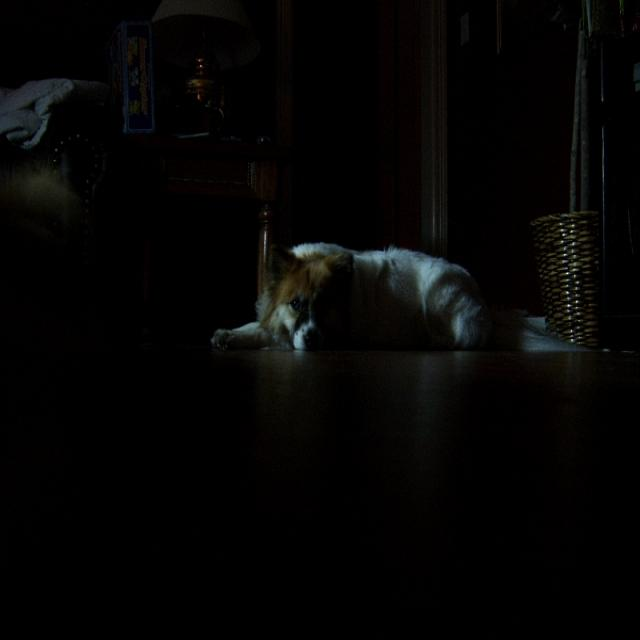Dog: (256, 271, 534, 429)
